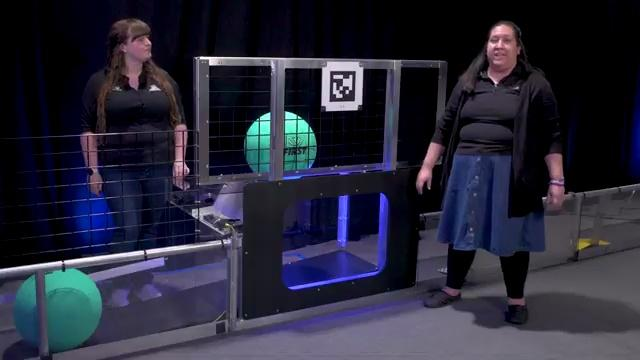ALGAE: (12, 267, 102, 352), (243, 110, 317, 173)
